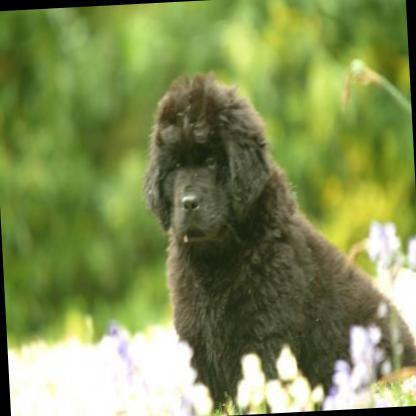Newfoundland: (134, 42, 416, 416)
